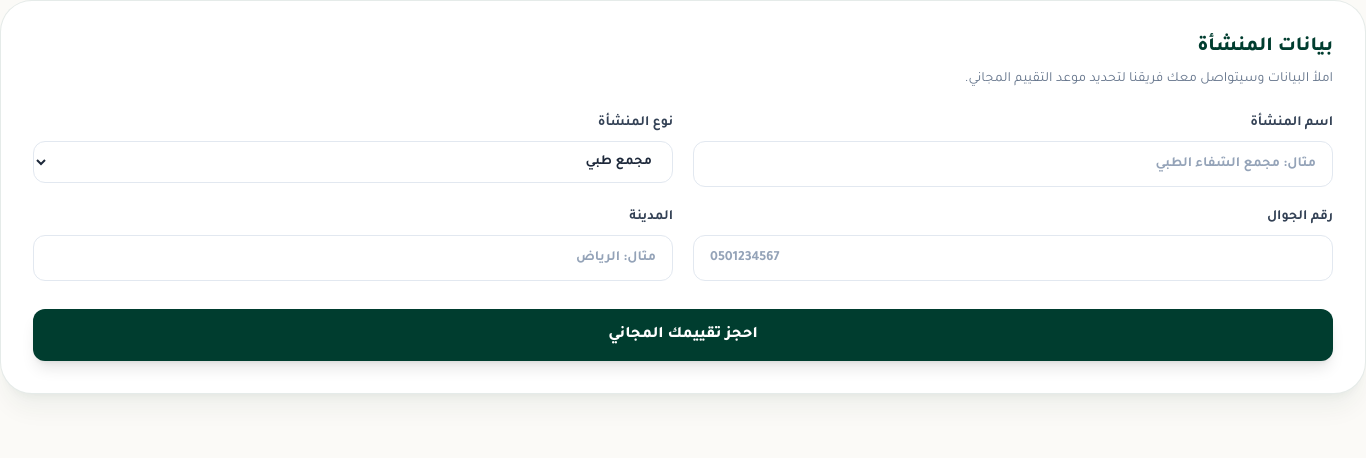
Test: public lead capture form › renders Arabic fields and reports inline validation errors
The width and height of the screenshot is (1366, 458).
Check: the field labelled "اسم المنشأة" is shown, box left=693, top=141, right=1333, bottom=187
Check: the dropdown labelled "نوع المنشأة" is shown, box left=33, top=141, right=673, bottom=183
Click the button "احجز تقييمك المجاني": (683, 335) left=33, top=309, right=1333, bottom=361
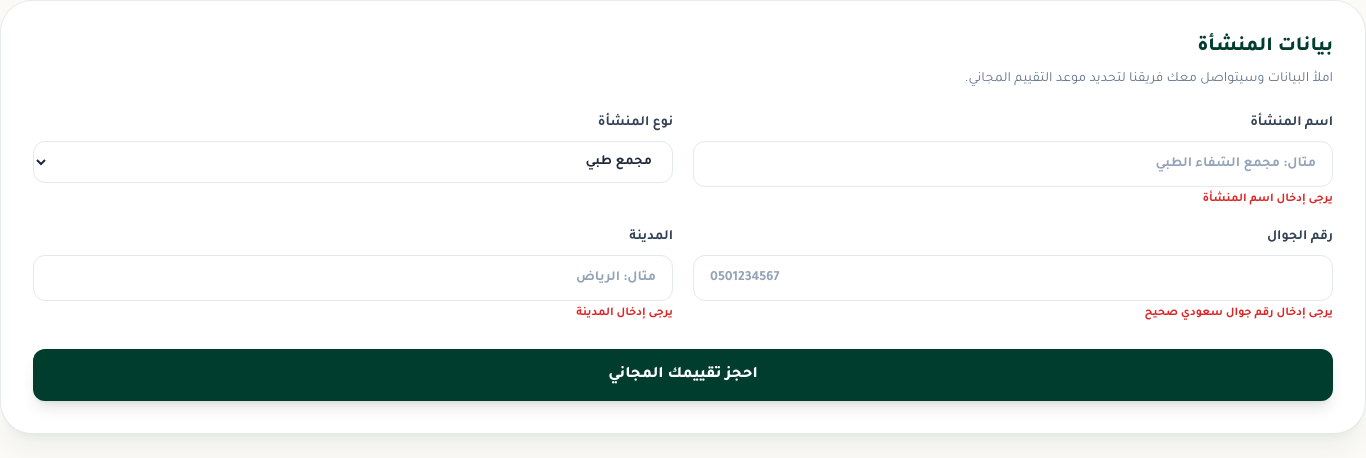
Check: the text "يرجى إدخال اسم المنشأة" is shown, box left=1203, top=193, right=1333, bottom=205
Check: the text "يرجى إدخال رقم جوال سعودي صحيح" is shown, box left=1144, top=307, right=1333, bottom=319
Check: the text "يرجى إدخال المدينة" is shown, box left=576, top=307, right=673, bottom=319
